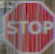Stop: (5, 1, 54, 48)
